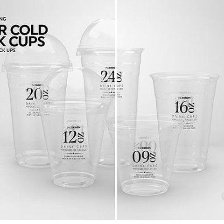glass: (71, 11, 155, 171), (33, 61, 115, 195), (1, 27, 74, 175), (147, 64, 223, 176), (102, 104, 186, 201)
